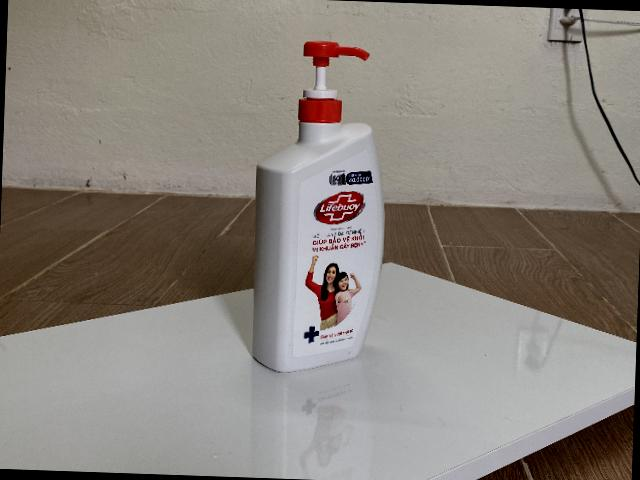life-buoy: (250, 40, 385, 375)
